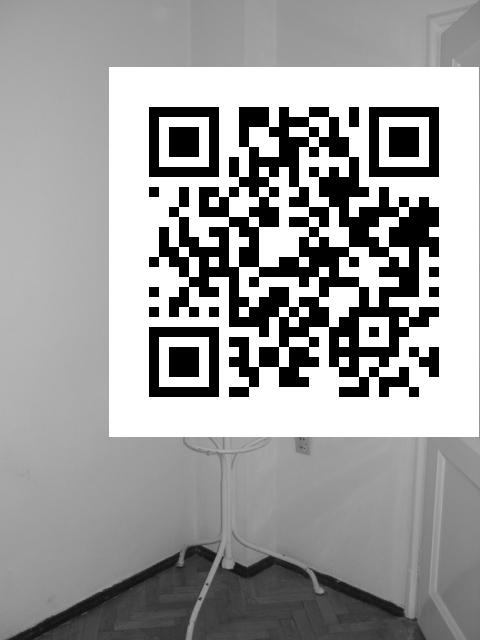qr_code: (127, 88, 469, 420)
